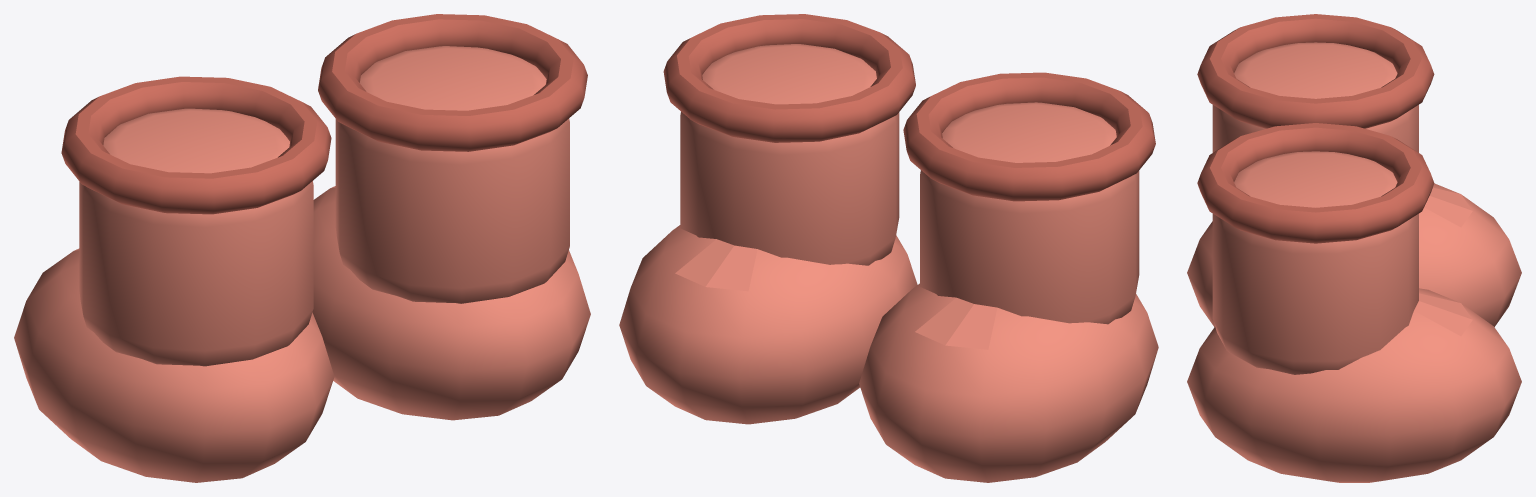
The model's file is Shoes_Boots.fbx.
3 renders of one model, left to right at view 1: azimuth 30°, elevation 25°; view 2: azimuth 150°, elevation 25°; view 3: azimuth 270°, elevation 25°, orthographic. The views are drawn at different scales.
Visible parts, largest first — view 1: Boot_Shaft.001, Boot_Shaft, Shoe.001, Shoe, Boot_Rim, Boot_Rim.001; view 2: Shoe.001, Shoe, Boot_Shaft.001, Boot_Shaft, Boot_Rim.001, Boot_Rim; view 3: Shoe, Boot_Shaft, Boot_Rim, Boot_Rim.001, Shoe.001, Boot_Shaft.001.
Boxes of the visible parts, x1,y1,x2,y2 form: Boot_Shaft.001: (79,108,313,366); Boot_Shaft: (335,46,569,303); Shoe.001: (14,248,334,482); Shoe: (312,186,590,420); Boot_Rim: (318,14,587,151); Boot_Rim.001: (61,76,331,214); Shoe.001: (859,283,1158,482); Shoe: (619,225,917,424); Boot_Shaft.001: (920,102,1139,324); Boot_Shaft: (680,44,899,265); Boot_Rim.001: (903,72,1155,201); Boot_Rim: (663,14,915,142); Shoe: (1187,288,1521,482); Boot_Shaft: (1212,151,1418,374); Boot_Rim: (1197,123,1434,243); Boot_Rim.001: (1197,14,1434,128); Shoe.001: (1187,183,1521,326); Boot_Shaft.001: (1212,42,1418,152).
Bounding box in the file's own units: 39.5 × 25.83 × 26.
